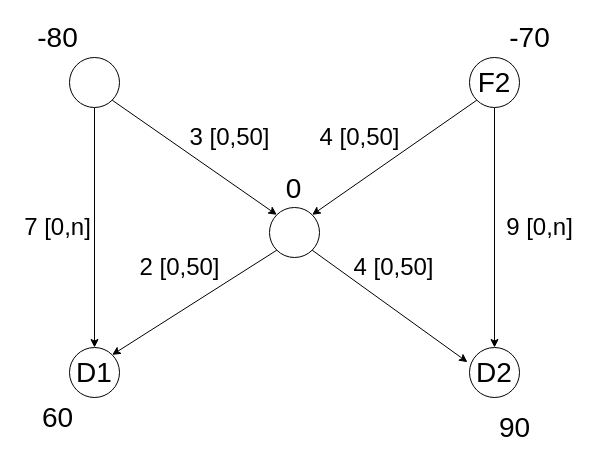
This 596x464 diagram has some shape labels left out. Each missing label, with the centre of its shape:
CD: point (294, 232)
F1: point (94, 82)
